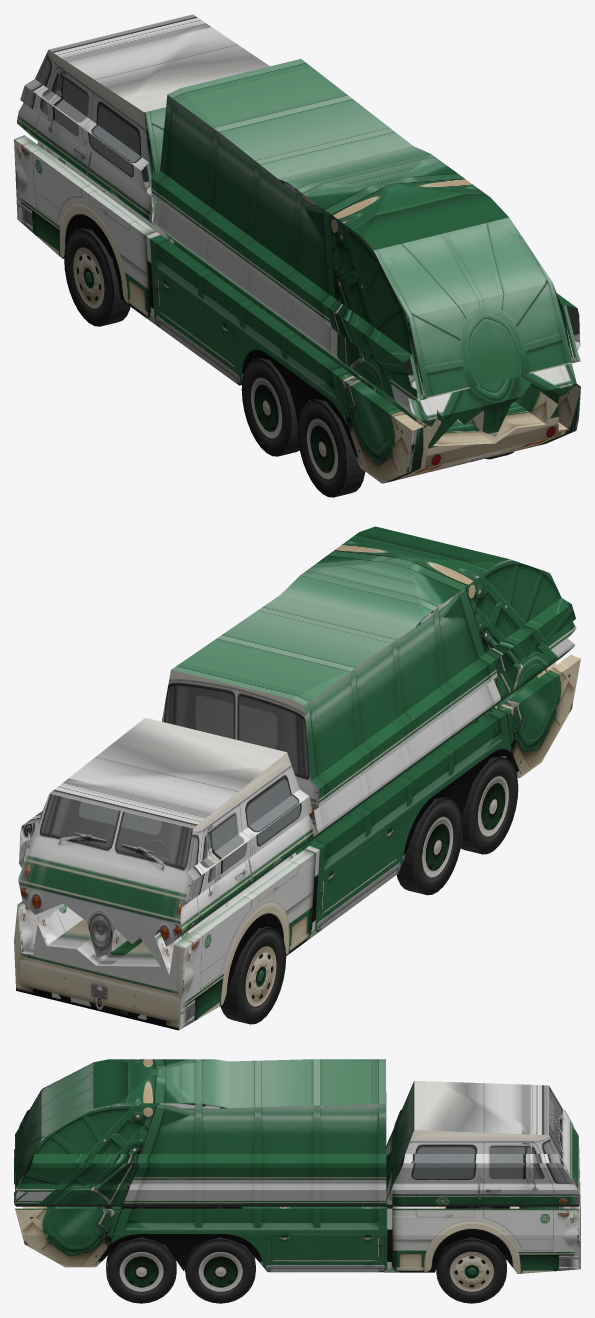
The model's file is garbage_truck.glb.
3 renders of one model, top to bottom at view 1: azimuth 30°, elevation 25°; view 2: azimuth 150°, elevation 25°; view 3: azimuth 270°, elevation 25°, orthographic. The views are drawn at different scales.
Parts seen in each view (by area): view 1: garbage_truck, wheel_BL, wheel_FL, wheel_M1L; view 2: garbage_truck, wheel_M1L, wheel_FL, wheel_BL; view 3: garbage_truck, wheel_BR, wheel_M1R, wheel_FR.
Boxes of the visible parts, left/top/right/bottom form: garbage_truck: left=14, top=14, right=580, bottom=483; wheel_BL: left=297, top=399, right=365, bottom=497; wheel_FL: left=64, top=228, right=130, bottom=326; wheel_M1L: left=241, top=358, right=299, bottom=456; garbage_truck: left=14, top=526, right=580, bottom=1030; wheel_M1L: left=396, top=797, right=462, bottom=895; wheel_FL: left=220, top=926, right=286, bottom=1024; wheel_BL: left=460, top=756, right=518, bottom=854; garbage_truck: left=14, top=1059, right=580, bottom=1273; wheel_BR: left=106, top=1237, right=176, bottom=1303; wheel_M1R: left=185, top=1237, right=255, bottom=1303; wheel_FR: left=436, top=1237, right=506, bottom=1303.
Size of the model in its own units: 2.43 by 3.69 by 9.49.
Materials: 3 (1 with a texture image).
